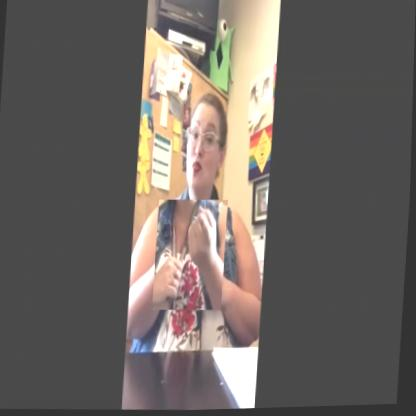HowAreYou: (154, 200, 229, 313)
